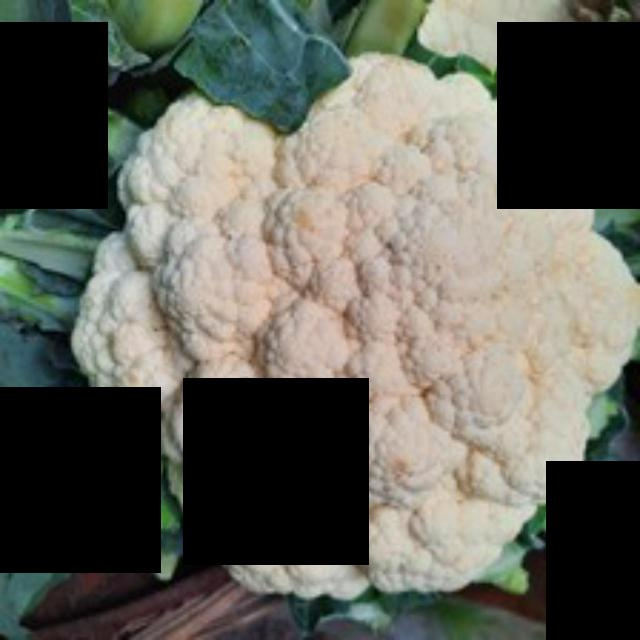cauliflower: (63, 63, 637, 605)
